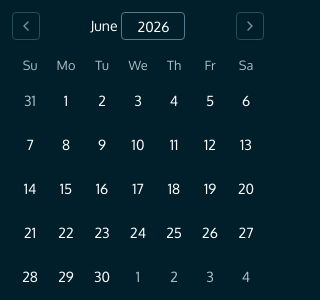
Test: Calendar › year field › reverts on invalid input
This screenshot has width=320, height=300.
Clear the field named "Year" at (154, 26), box left=122, top=12, right=186, bottom=40
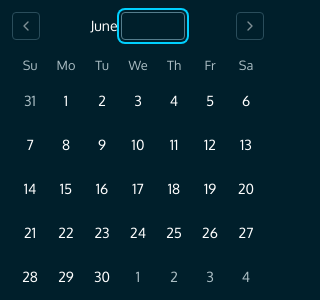
Press Enter
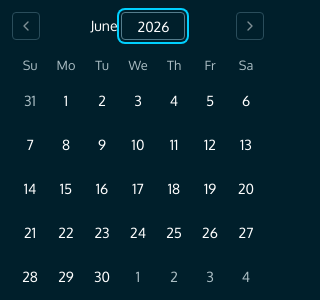
Now the field named "Year" holds "2026", box left=122, top=12, right=186, bottom=40
